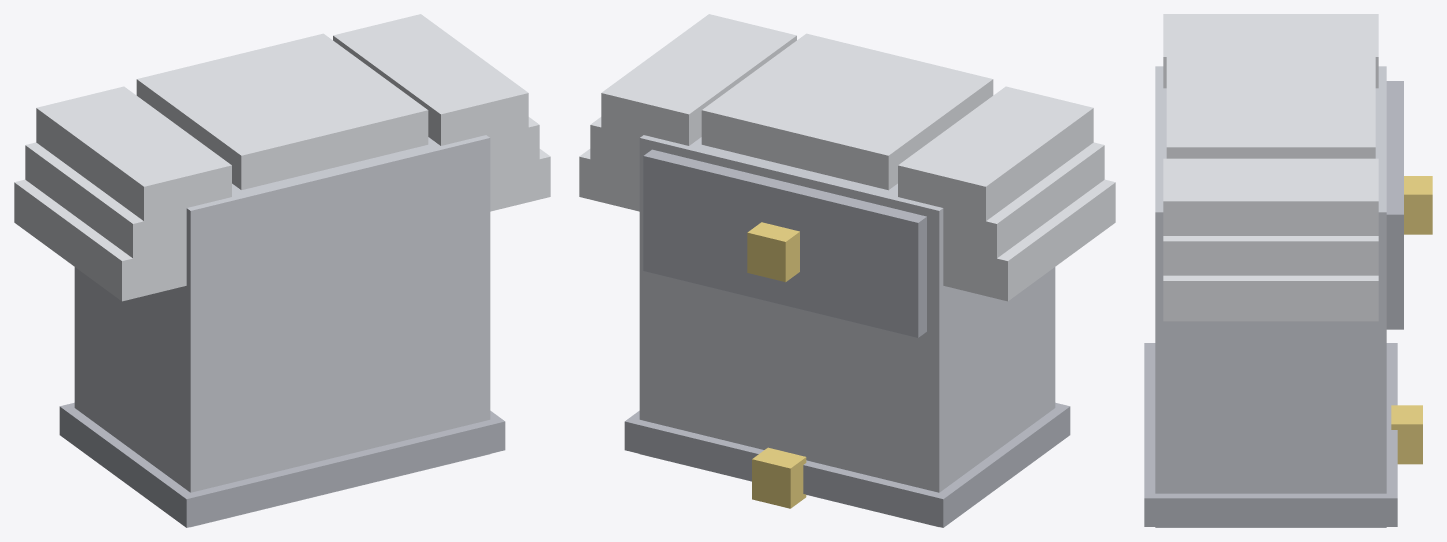
File: princesa_guerreira_tronco.glb
3 views of the same model, side by side, from view 1: azimuth 30°, elevation 25°; view 2: azimuth 150°, elevation 25°; view 3: azimuth 270°, elevation 25° (orthographic).
Parts seen in each view (by area): view 1: princesa_guerreira_tronco; view 2: princesa_guerreira_tronco; view 3: princesa_guerreira_tronco.
Part boxes in pixels (bbox=[...]): princesa_guerreira_tronco: bbox=[14, 14, 550, 527]; princesa_guerreira_tronco: bbox=[579, 14, 1115, 527]; princesa_guerreira_tronco: bbox=[1144, 14, 1432, 527].
Bounding box in the file's own units: 0.78 × 0.615 × 0.455.
